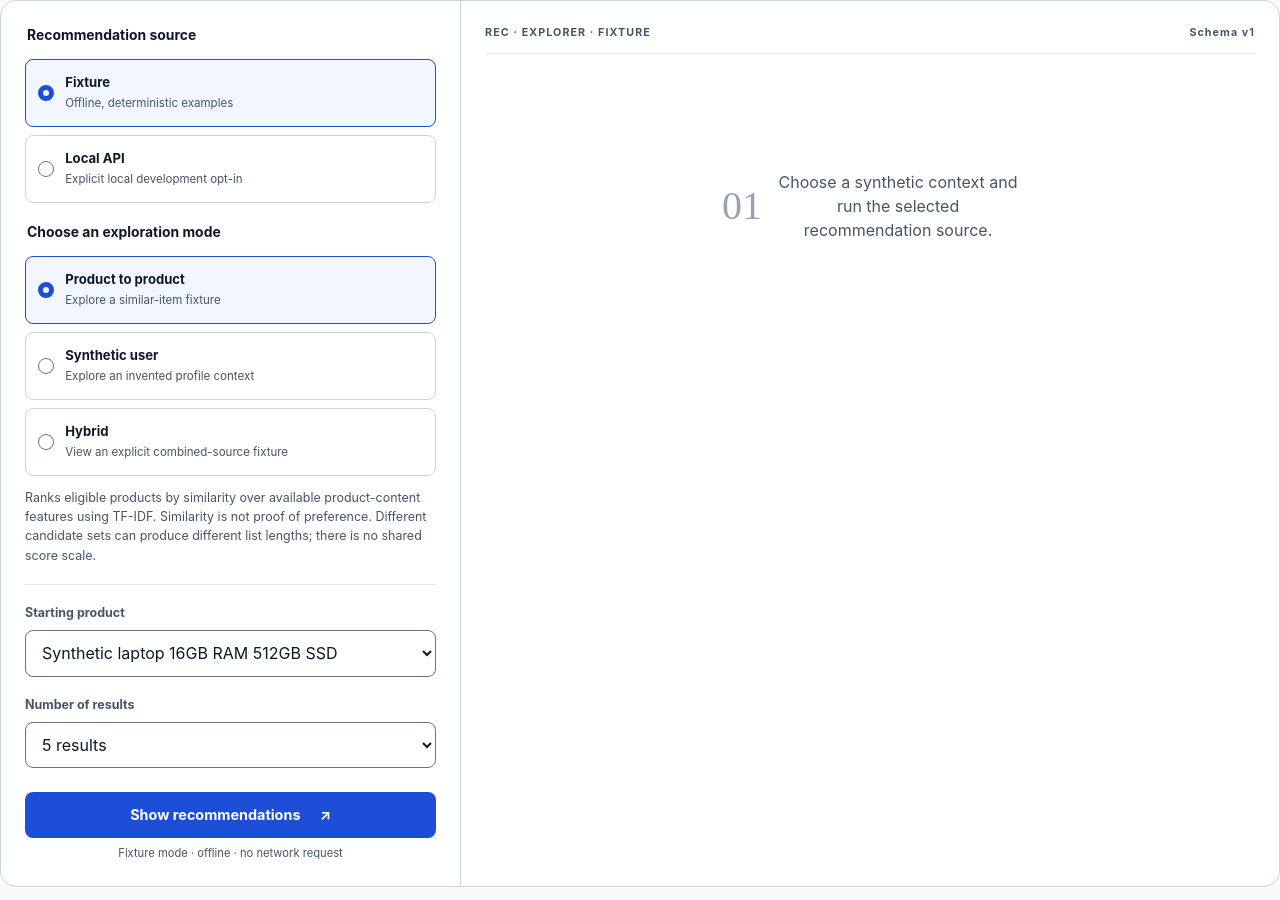
recommendation explorer › announces provider failures without leaking exception details
The image size is (1280, 900).
Click the button "Show recommendations ↗": (231,815) x1=25 y1=792 x2=436 y2=838
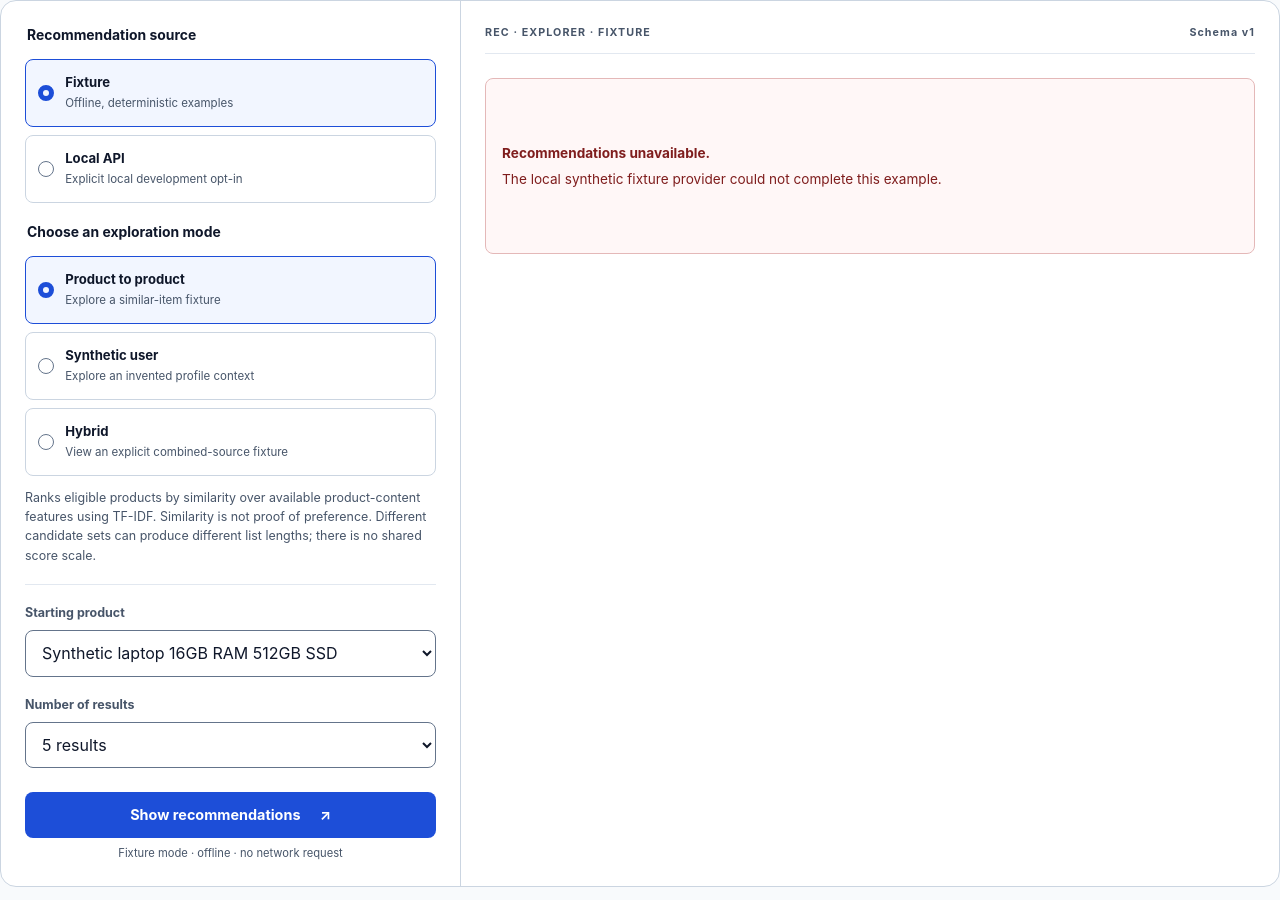
Result: the message shows "local synthetic fixture provider could not complete" at x1=502 y1=171 x2=942 y2=187
